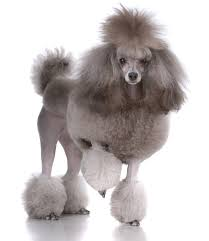Poodle: (22, 4, 188, 232)
